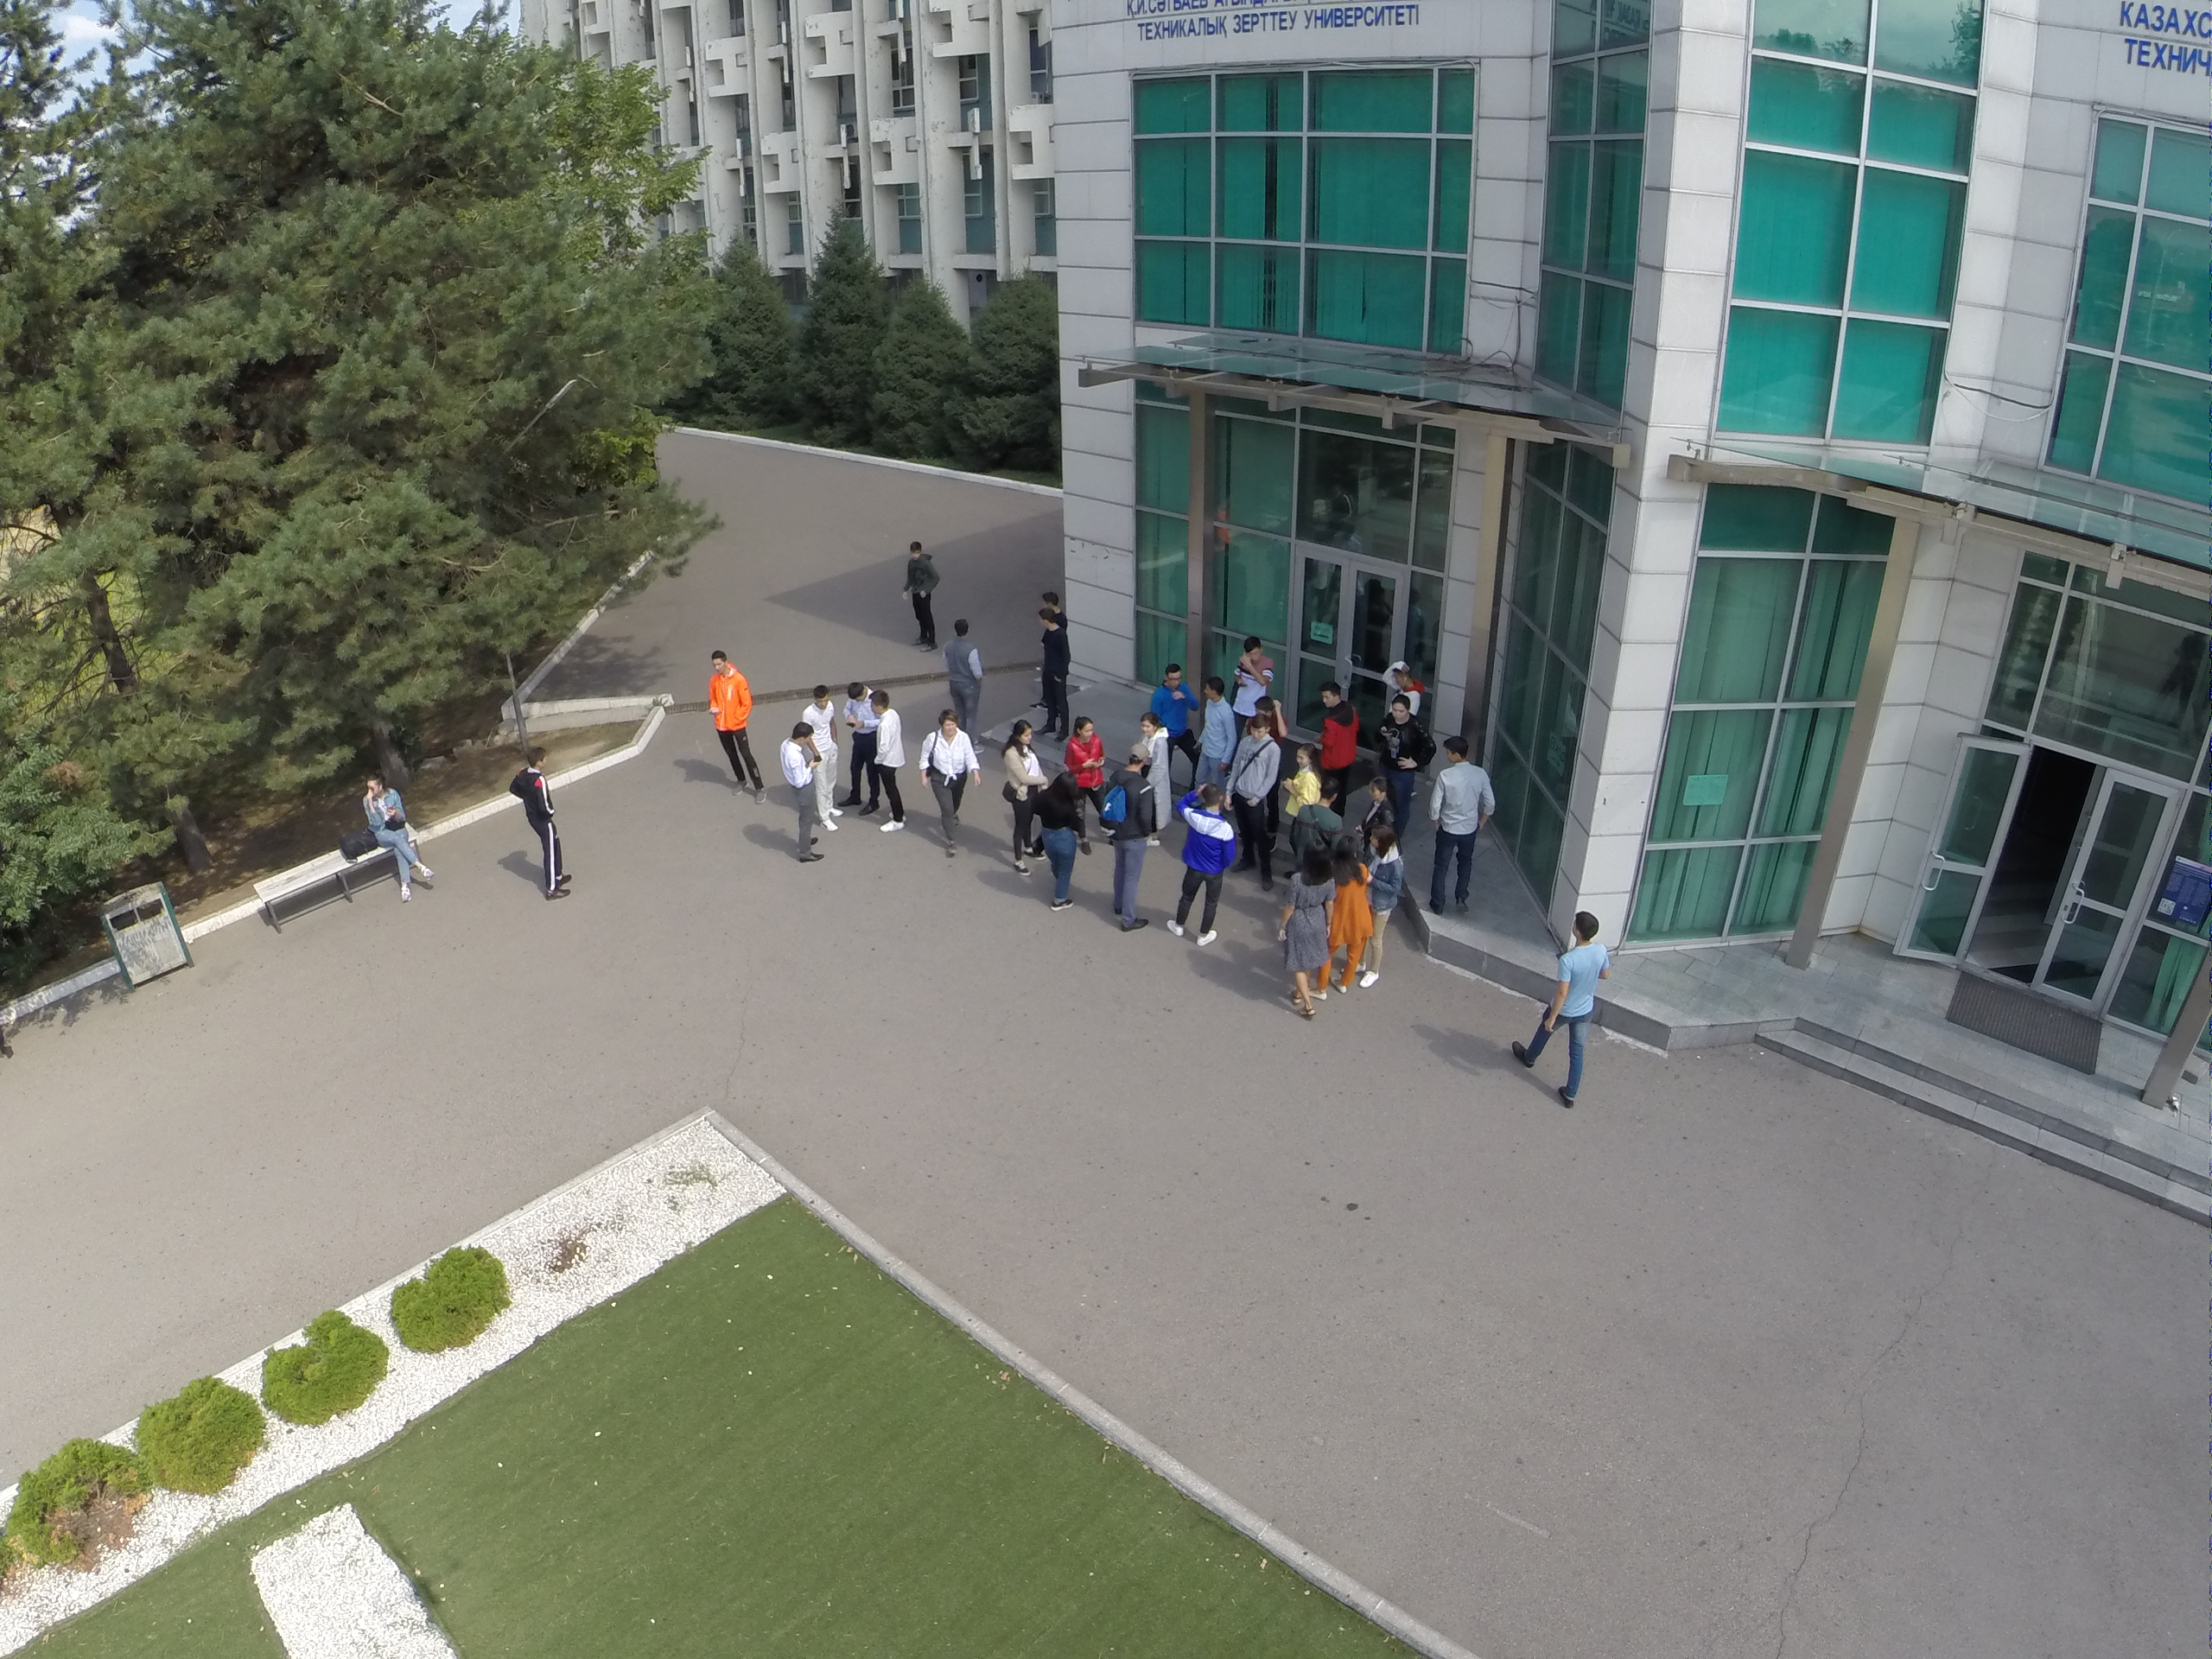person: (1506, 899, 1611, 1117), (1164, 780, 1237, 950), (1432, 733, 1496, 924), (508, 744, 582, 902), (1103, 742, 1160, 942), (701, 645, 770, 805), (358, 773, 438, 906), (918, 706, 987, 861), (777, 714, 831, 869), (1353, 827, 1398, 995), (1315, 835, 1361, 1000), (943, 612, 990, 759), (1236, 714, 1277, 890), (1285, 842, 1323, 1024), (1374, 701, 1426, 830), (1001, 715, 1039, 882), (1063, 705, 1105, 844), (1041, 767, 1080, 918), (806, 686, 845, 836), (869, 686, 906, 834), (1134, 702, 1169, 853), (898, 538, 942, 653), (1036, 605, 1075, 741), (1193, 669, 1237, 787), (1146, 661, 1197, 760), (842, 672, 875, 817), (1313, 682, 1360, 779), (1280, 735, 1323, 819), (1299, 778, 1351, 838), (1235, 634, 1268, 719), (1360, 778, 1398, 832), (1385, 658, 1423, 709)
